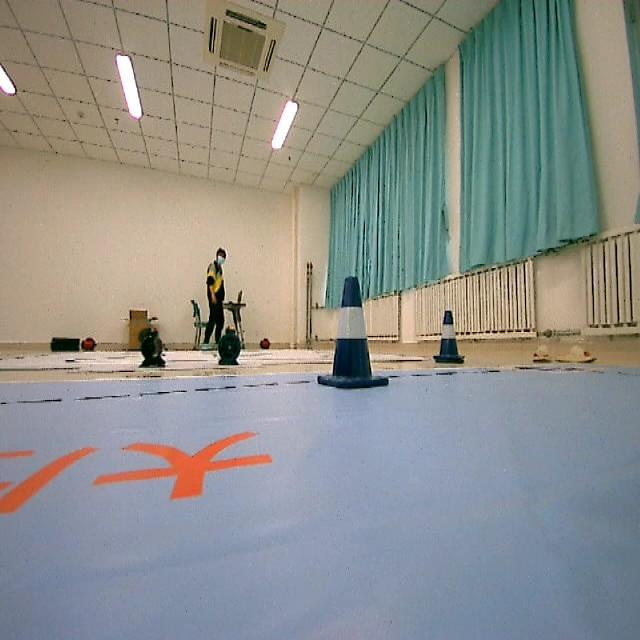obstacle: (313, 276, 391, 394), (432, 308, 466, 374)
